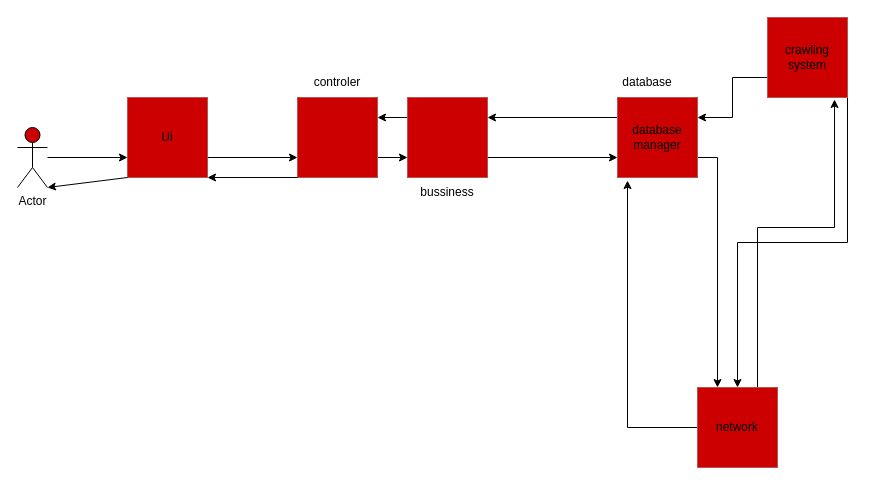
Image size: 873x485. Some labels were removed from this diagram. Each missing label, with the centre of its shape:
api: the point at 337,137
django model: the point at 447,137
